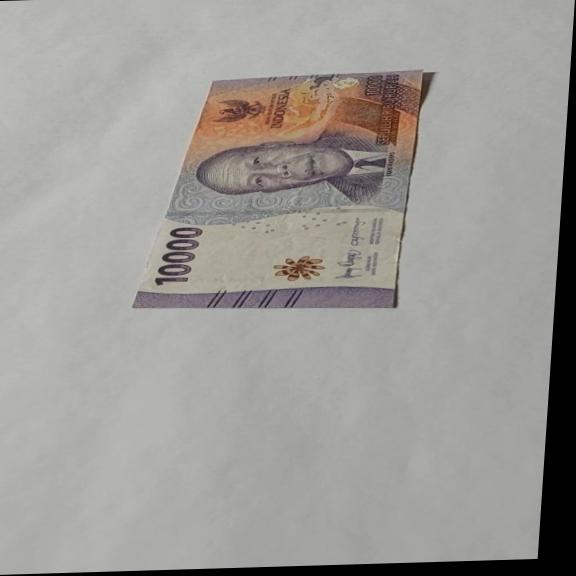Kertas: (129, 68, 429, 316), (151, 224, 205, 286)
